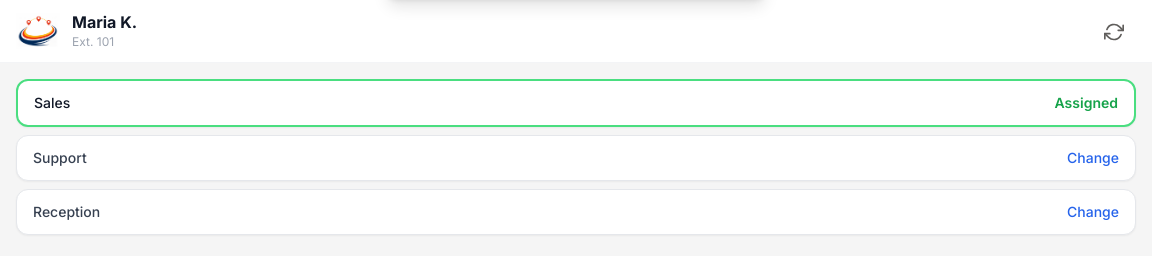
it: DepartmentsPage › success shows toast with dept name
Step 1. Click the button "Support Change" → (60, 158), box [16,135,1136,181]
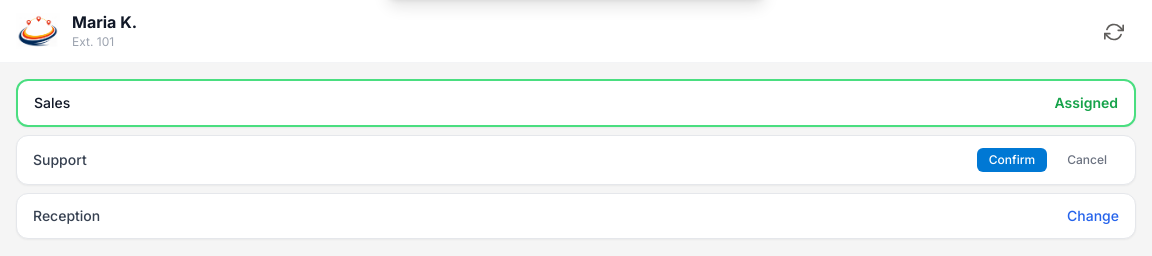
Step 2. Click the button "Confirm" → (1012, 160), box [977,148,1047,172]
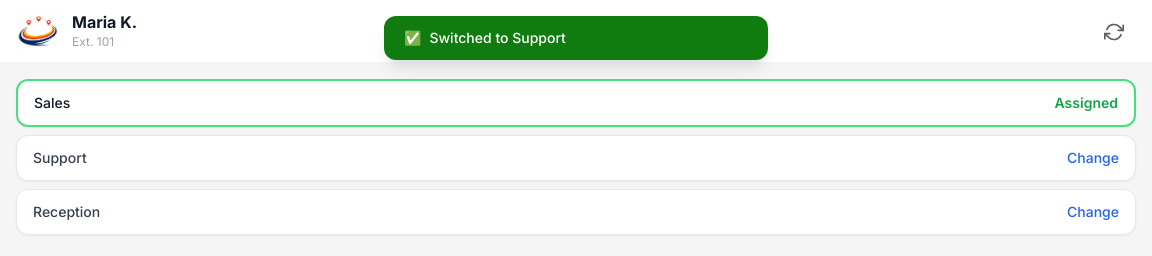
Expected: the text "Switched to Support" is shown, [430,28,566,48]
